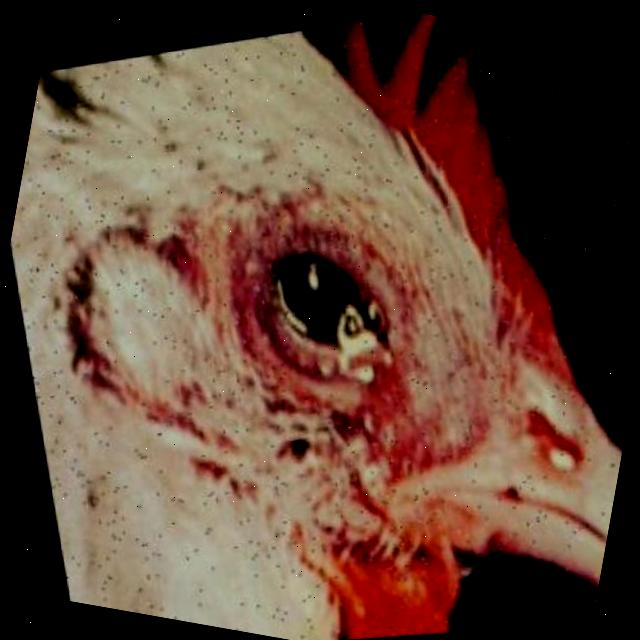Coryza: (175, 178, 452, 436)
